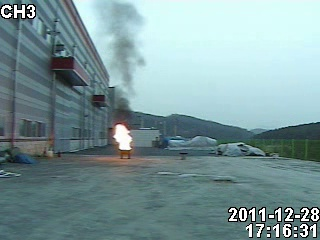fire: (113, 123, 131, 152)
smoke: (95, 2, 144, 117)
